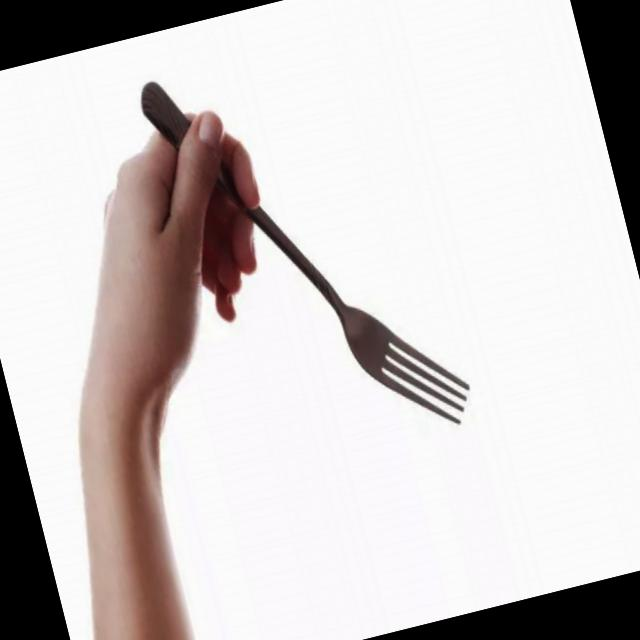fork: (134, 22, 478, 482)
